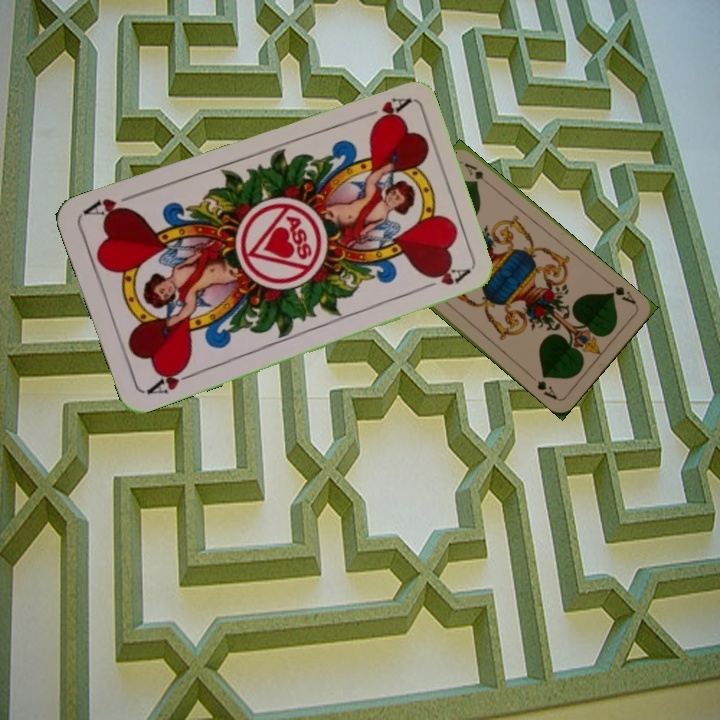GA: (604, 278, 639, 307)
HA: (143, 360, 200, 397), (353, 93, 411, 125)
